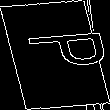P_E: (5, 33, 105, 77)
